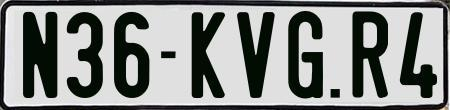3: (67, 11, 104, 97)
4: (399, 11, 437, 99)
6: (112, 12, 148, 98)
G: (285, 8, 323, 98)
K: (189, 10, 223, 99)
N: (23, 10, 58, 98)
R: (350, 9, 386, 100)
V: (235, 11, 276, 100)
